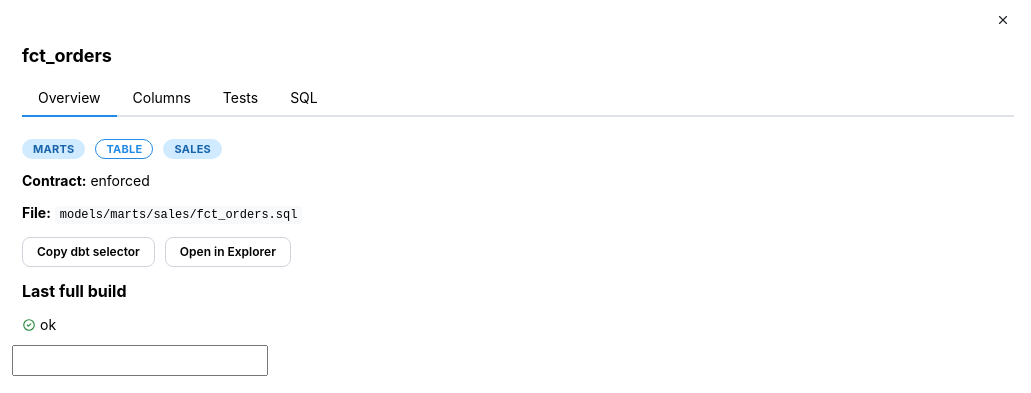
it: NodePanel › the column lineage note shows too when the node has no columns
What coordinates should you click on to do the following:
click the tab "Columns"
I would click on:
 (162, 99)
Its box is x1=117 y1=81 x2=207 y2=117.
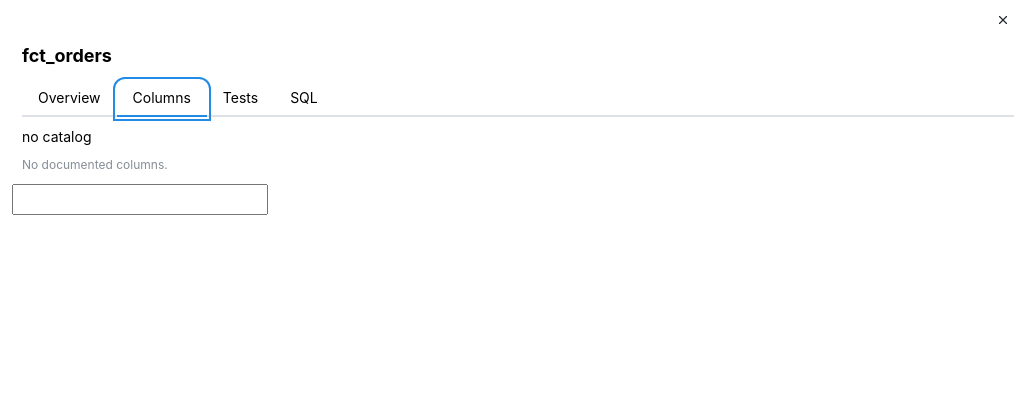
Expected: the text "no catalog" is shown, x1=22 y1=128 x2=92 y2=145
Expected: the text "No documented columns." is shown, x1=22 y1=157 x2=168 y2=172
